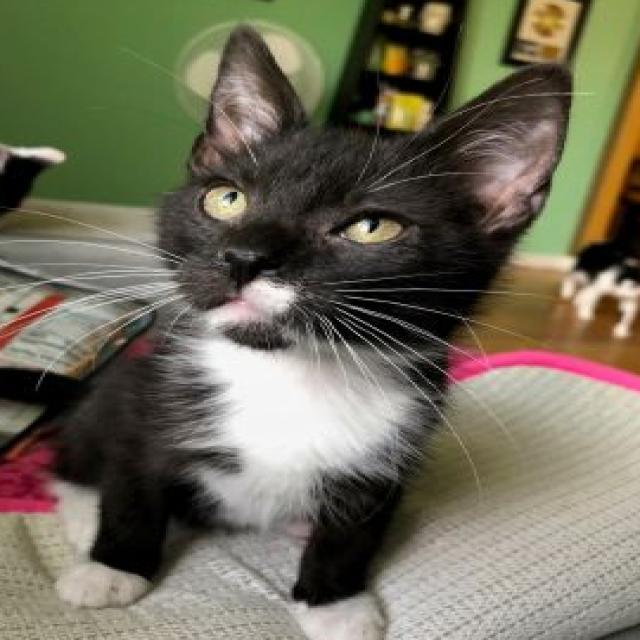Tuxedo: (40, 16, 583, 640)
